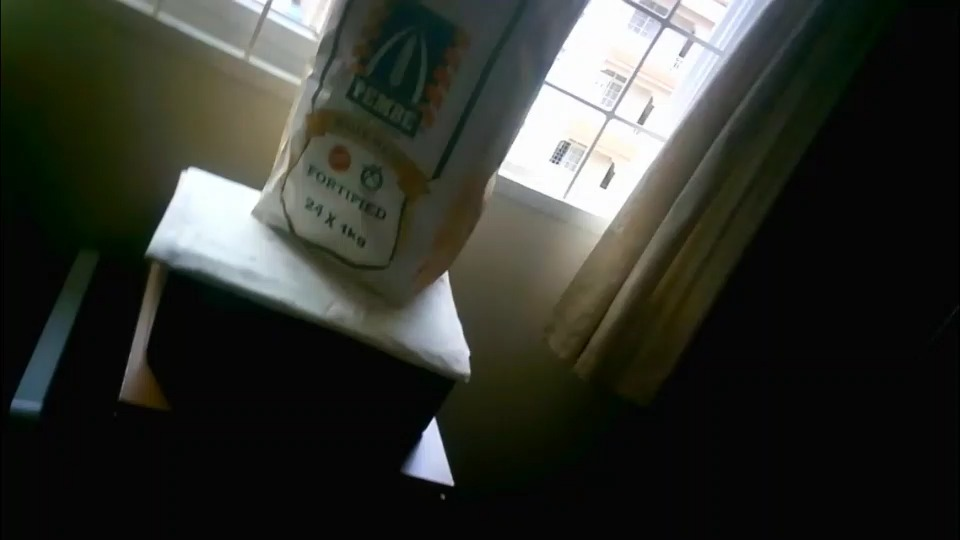maize_flour_green_label: (251, 2, 574, 296)
